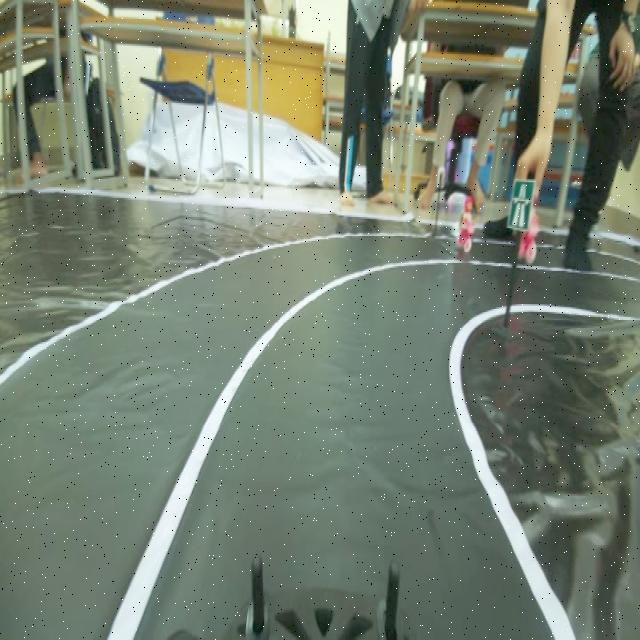highway_entry: (511, 174, 534, 239)
